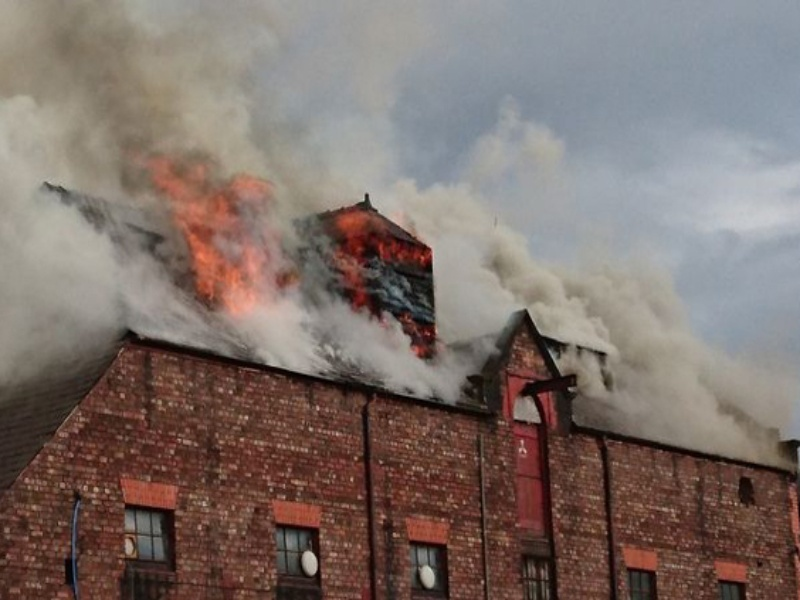smoke: (1, 1, 407, 366)
